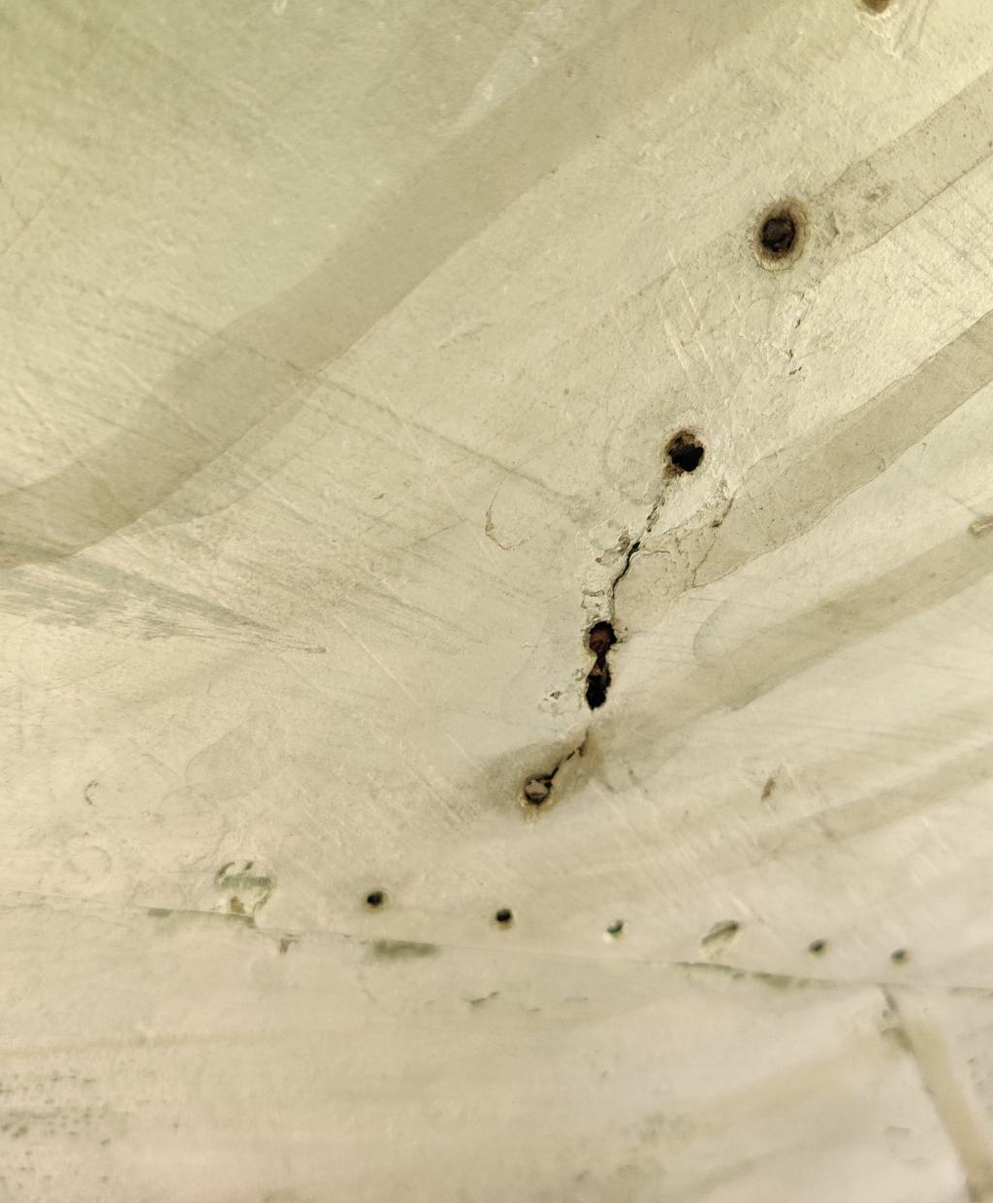crack: (490, 389, 758, 842)
